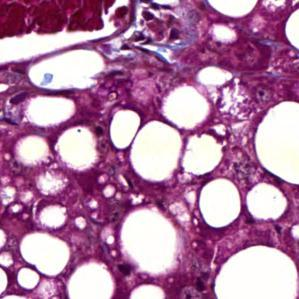steatosis: (198, 176, 244, 228), (103, 105, 140, 149)
